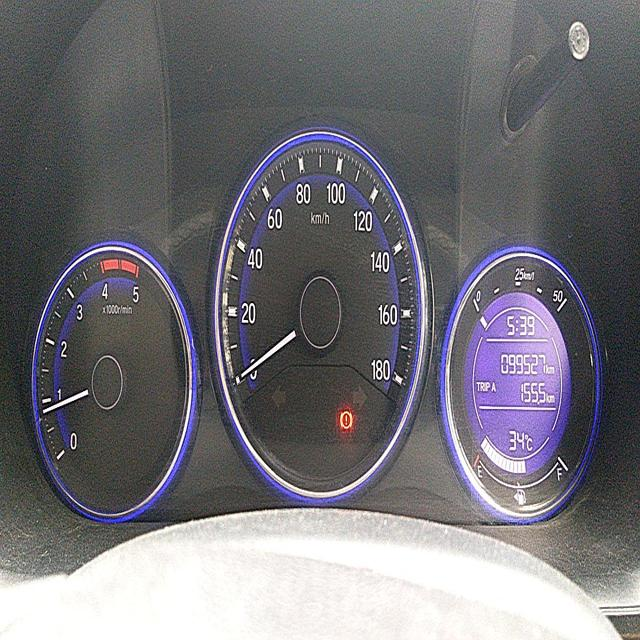odometer: (500, 346, 547, 378)
